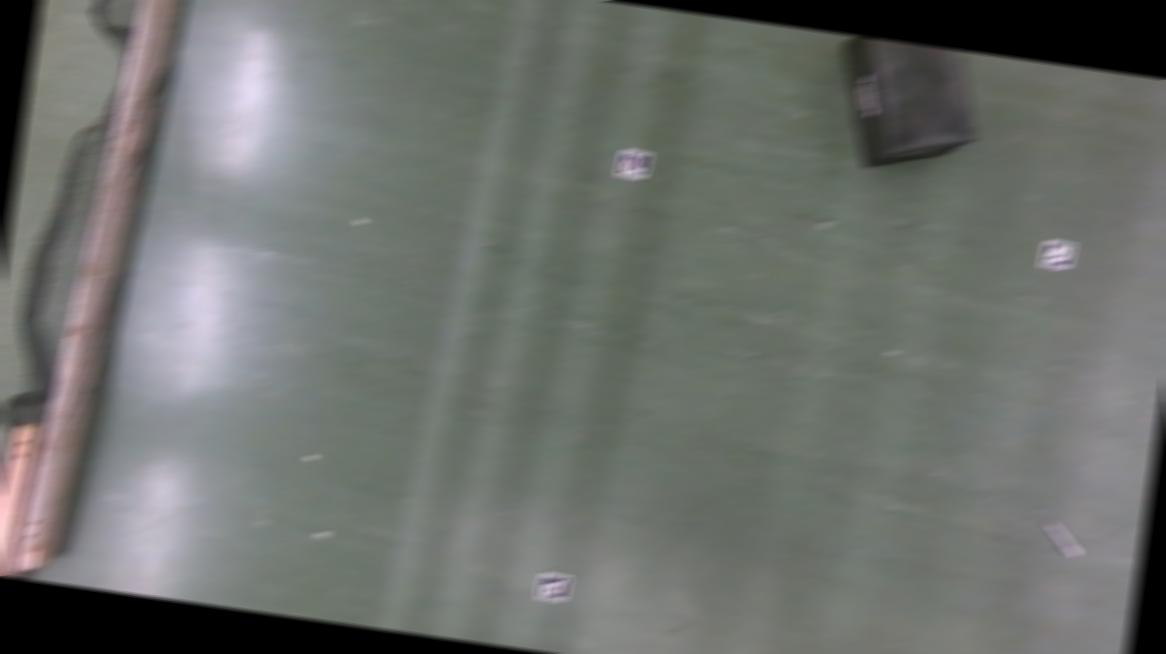probes: (1040, 518, 1086, 558)
rako: (822, 34, 990, 184)
